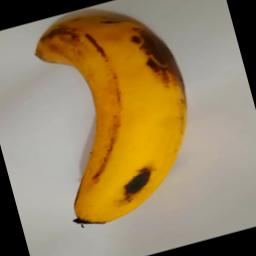Banana Unripe: (24, 0, 218, 237)
